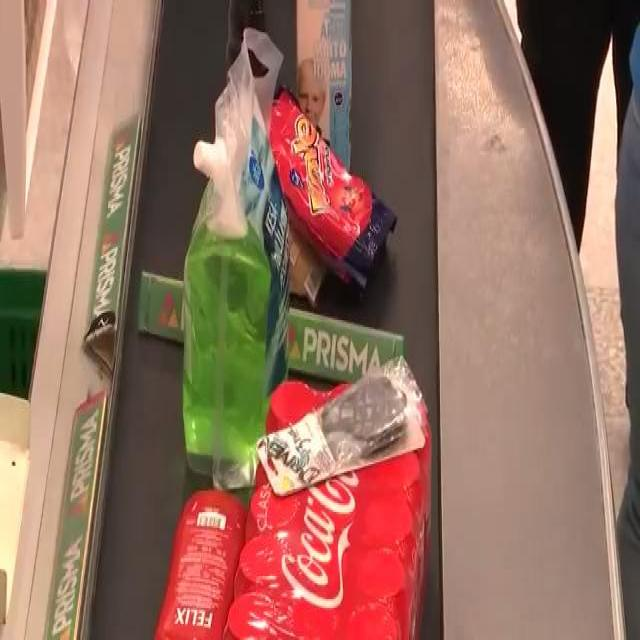beverage: (232, 384, 435, 635)
food-box: (196, 84, 276, 481), (270, 89, 384, 290), (285, 0, 356, 165)
utility-box: (270, 363, 428, 494), (154, 490, 240, 630)
